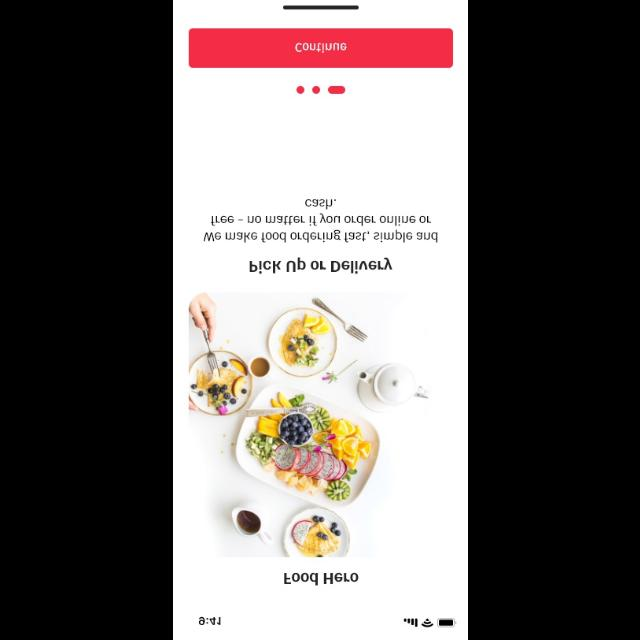image: (188, 292, 430, 556)
pageindicator: (296, 86, 346, 94)
text: (203, 199, 437, 243), (249, 256, 393, 274), (284, 572, 358, 586)
textbutton: (189, 28, 453, 68)
uppertaskbar: (198, 616, 456, 626)
